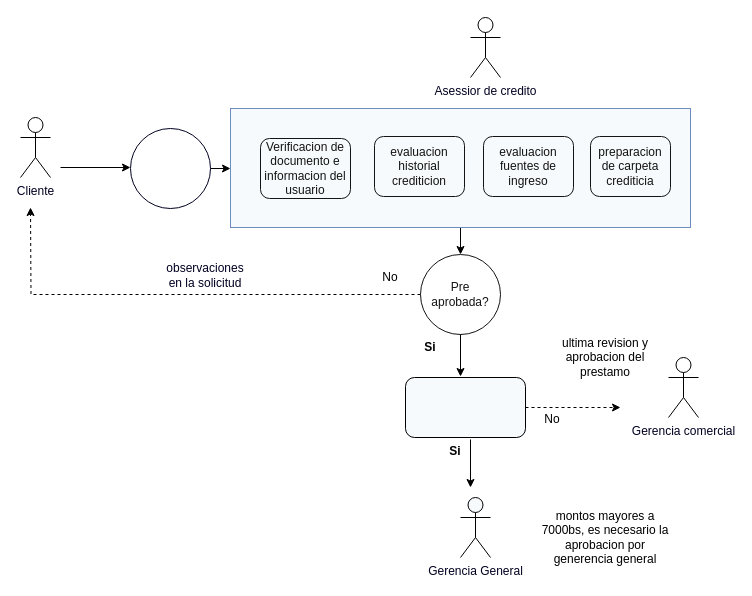
Image size: 752x596. Some labels were removed from this diagram. The shapes that lost their labels are listed below. From the top down, each one's centre as x and y in pixels, then its label:
At [170,168]: "formulario Solitidud credito".
At [465,407]: "Si el monto es mayor a 7000bs".
